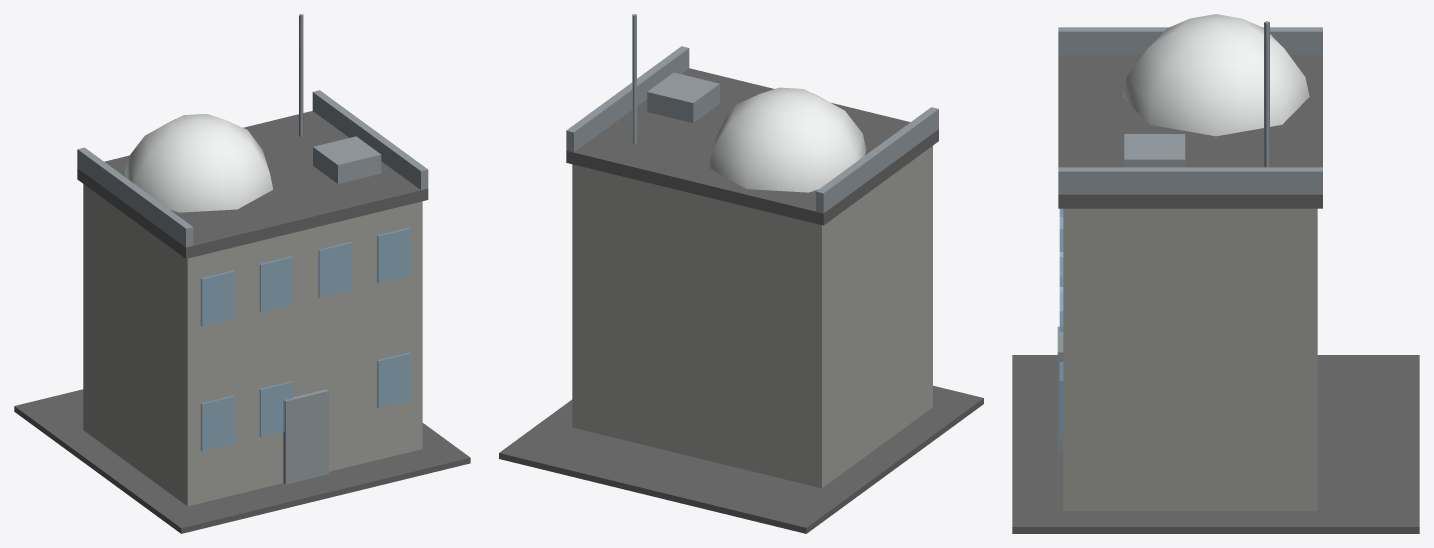
Rendered from bld_special_laboratory_a06_lod1.glb.
3 views of the same model, side by side, from view 1: azimuth 30°, elevation 25°; view 2: azimuth 150°, elevation 25°; view 3: azimuth 270°, elevation 25° (orthographic). The views are drawn at different scales.
Parts seen in each view (by area): view 1: body; view 2: body; view 3: body.
Boxes of the visible parts, left/top/right/bottom form: body: left=14, top=14, right=470, bottom=533; body: left=499, top=14, right=983, bottom=533; body: left=1012, top=14, right=1419, bottom=533.
Size of the model in its own units: 8 by 10.25 by 8.
